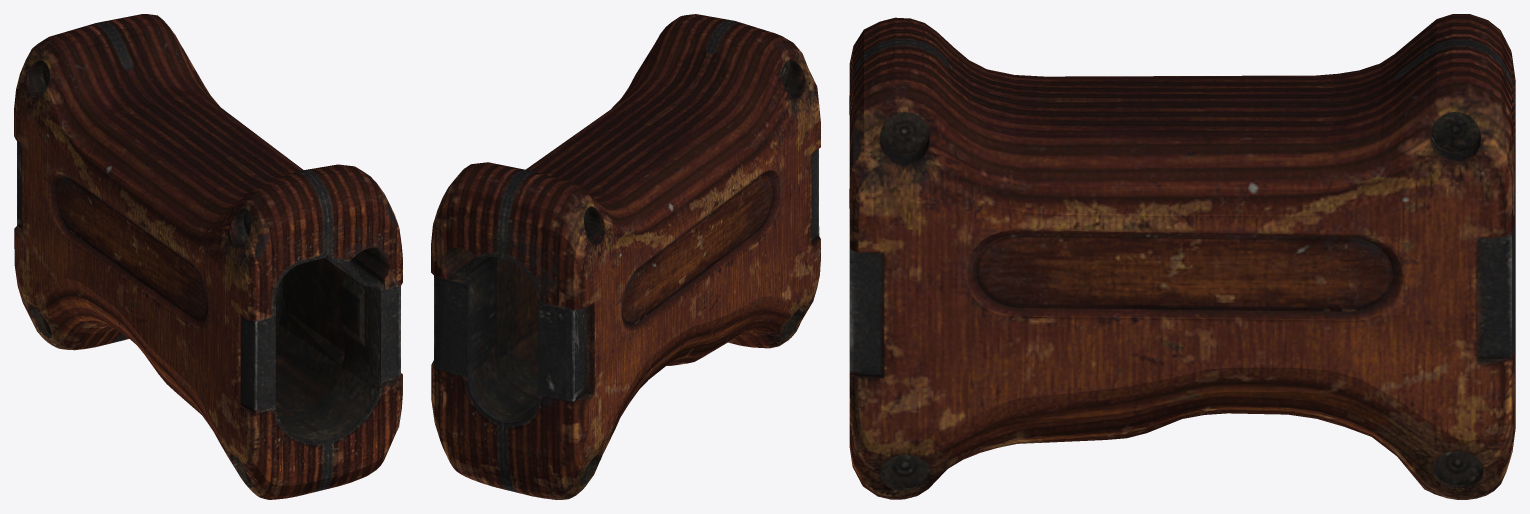
The picture shows the model from 3 angles, left to right: view 1: azimuth 30°, elevation 25°; view 2: azimuth 150°, elevation 25°; view 3: azimuth 270°, elevation 25°; orthographic projection. The views are drawn at different scales.
Parts seen in each view (by area): view 1: TW_6513f05a94c72326990a3866_PZ_Import; view 2: TW_6513f05a94c72326990a3866_PZ_Import; view 3: TW_6513f05a94c72326990a3866_PZ_Import.
Part boxes in pixels (x1,y1,x2,y2): TW_6513f05a94c72326990a3866_PZ_Import: (14, 14, 402, 499); TW_6513f05a94c72326990a3866_PZ_Import: (431, 14, 820, 499); TW_6513f05a94c72326990a3866_PZ_Import: (849, 14, 1515, 499).
Bounding box in the file's own units: 0.0249 × 0.0675 × 0.0482.
1 material, 1 textured.
